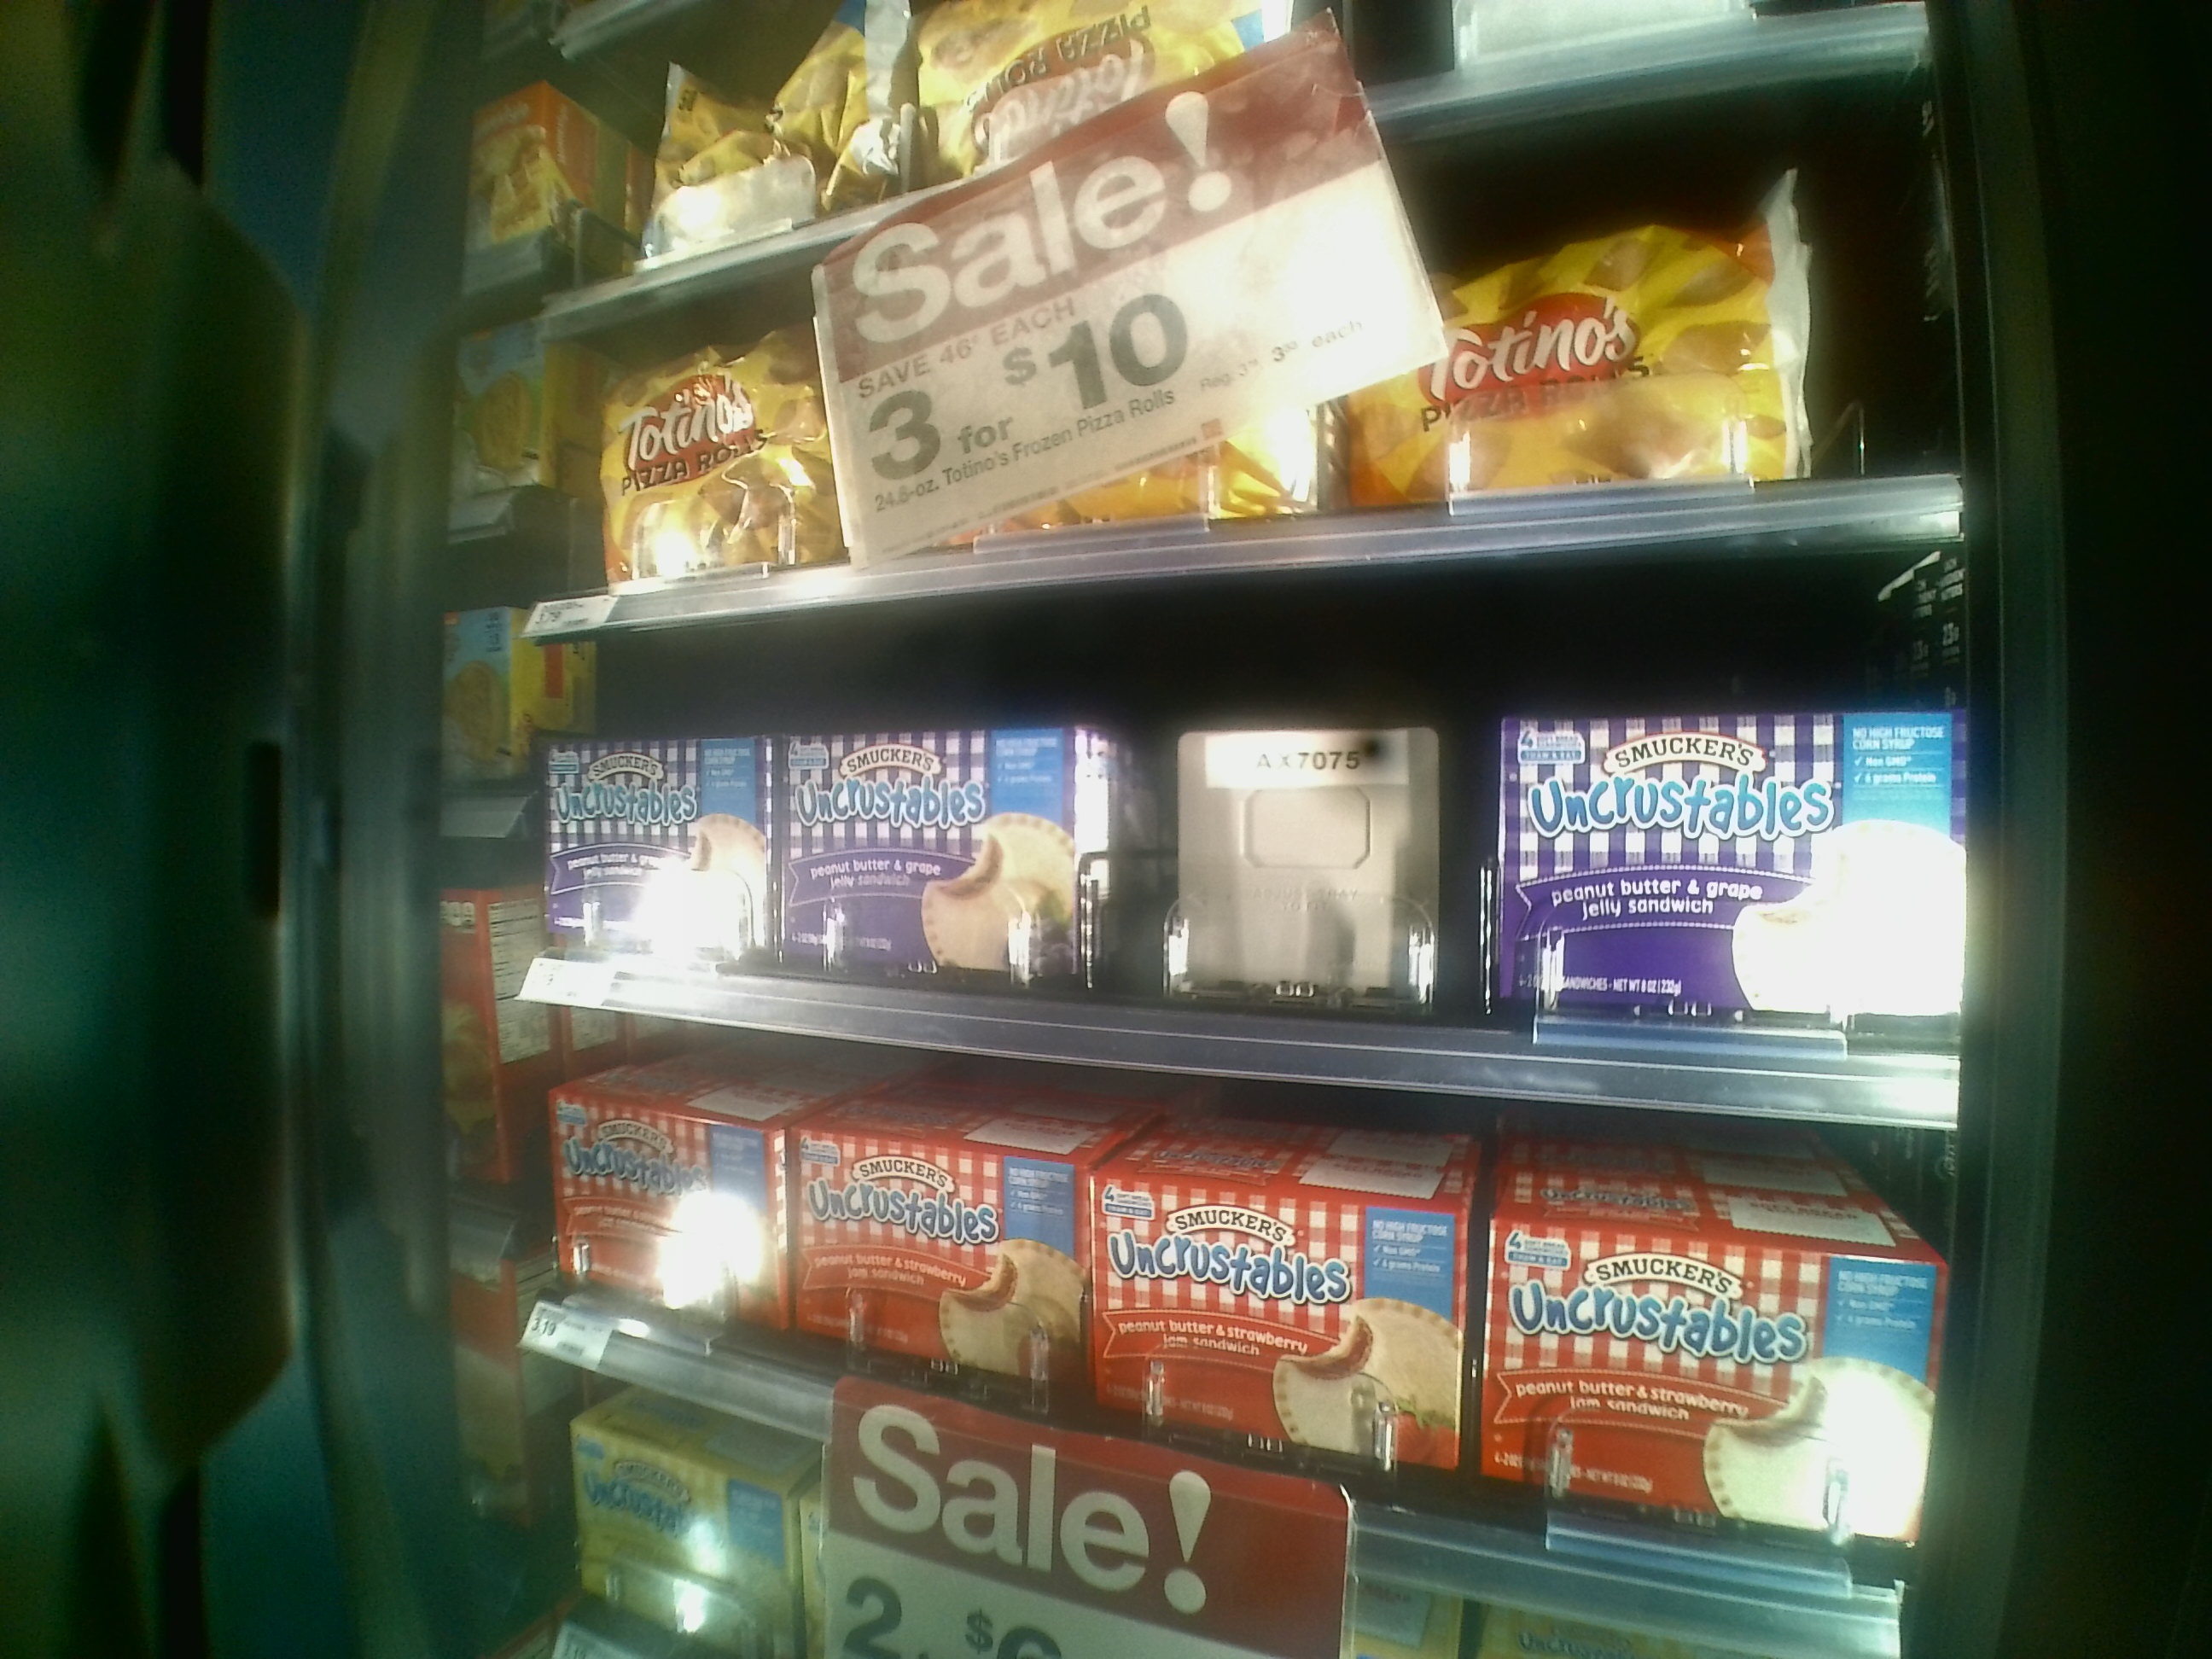shelf: (465, 1032, 1966, 1650), (505, 622, 1972, 1122), (517, 291, 1949, 619)
